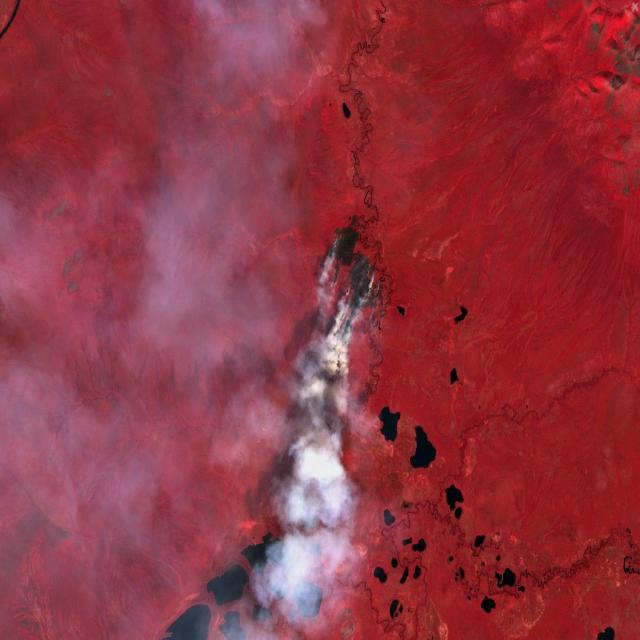fire: (318, 220, 384, 367)
